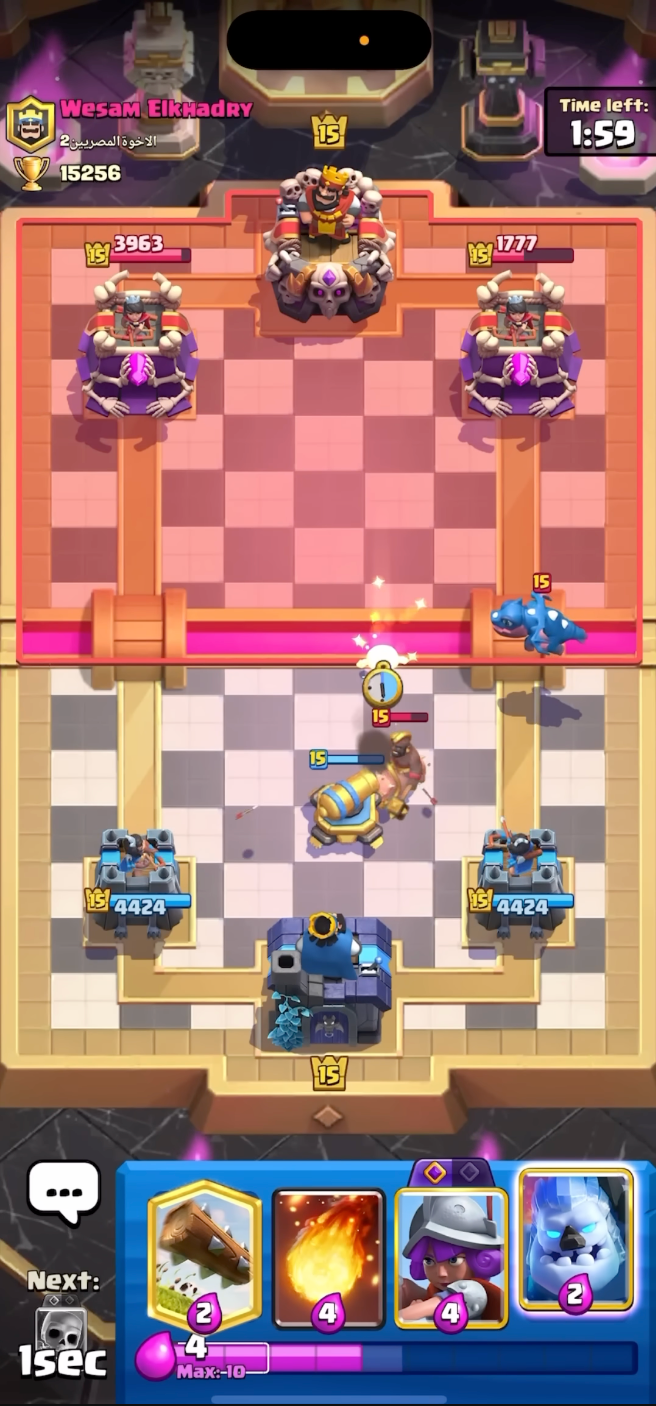cannon: (306, 746, 390, 851)
ice_spirit: (340, 626, 422, 707)
